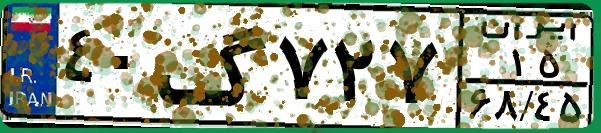0: (110, 28, 156, 98)
1: (508, 27, 537, 80)
2: (330, 28, 385, 110)
4: (57, 26, 110, 100), (535, 70, 560, 125)
5: (560, 70, 590, 125), (537, 27, 568, 80)
6: (470, 70, 495, 125)
7: (270, 28, 330, 110), (385, 28, 445, 110)
8: (495, 70, 520, 125)
گ: (156, 12, 270, 120)
